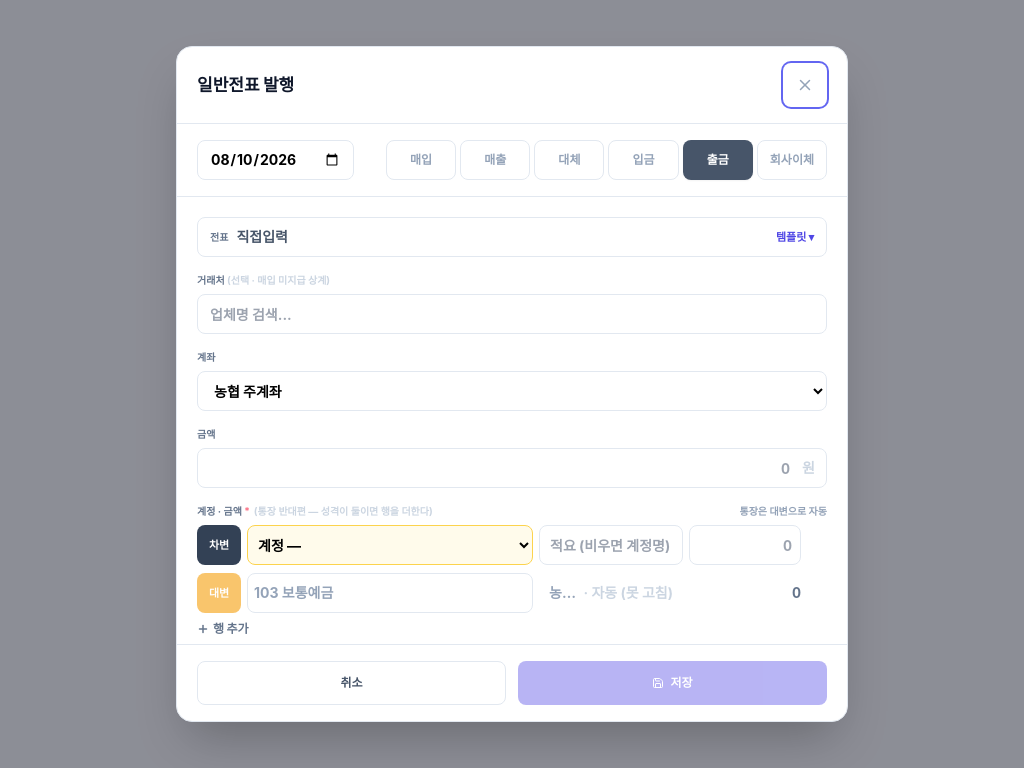
Test: 일반 현금전표는 거래처 계좌 금액 순서로 입력하고 금액 형식을 유지한다
Expected: the number of dropdowns named "계좌" is 1, [197,371,827,411]
Type "12345" into the field named "금액". click: (512, 468)
box: [197,448,827,488]
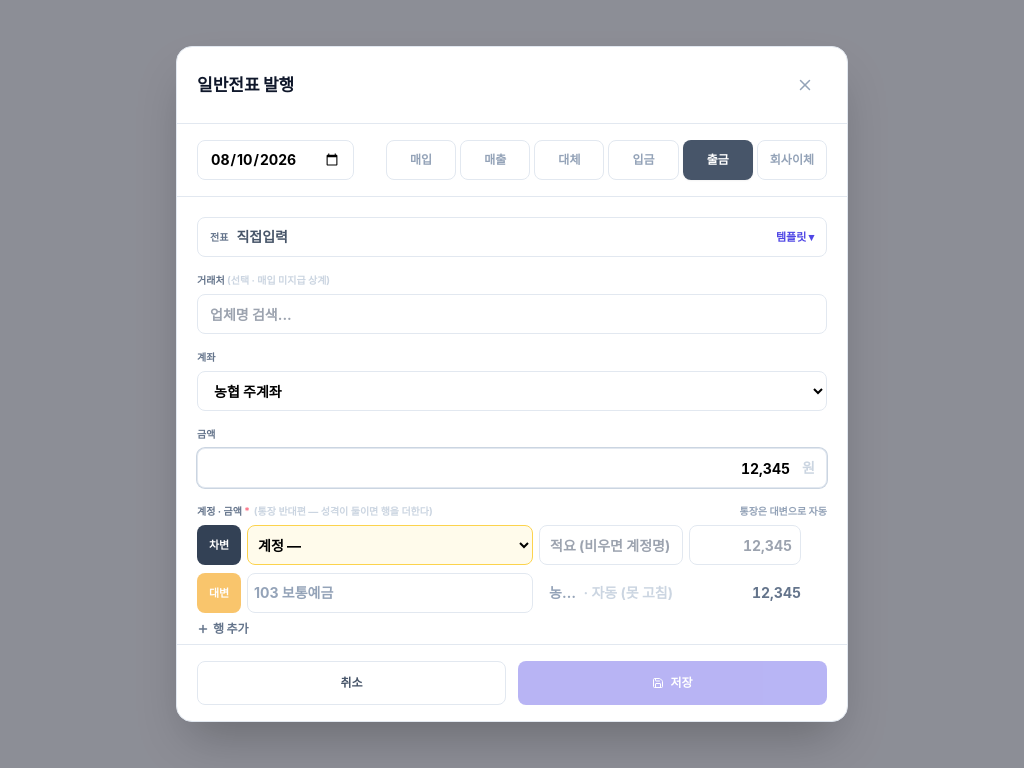
Expected: the field named "금액" holds "12,345", [197,448,827,488]
